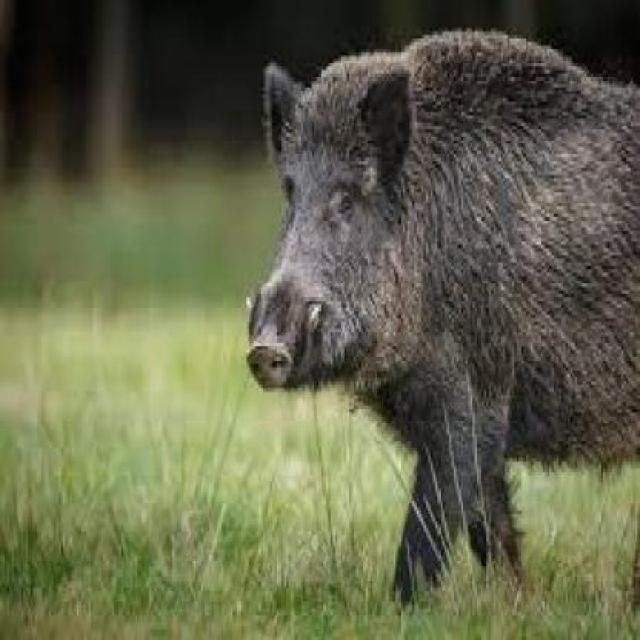wildboar: (237, 22, 640, 604)
